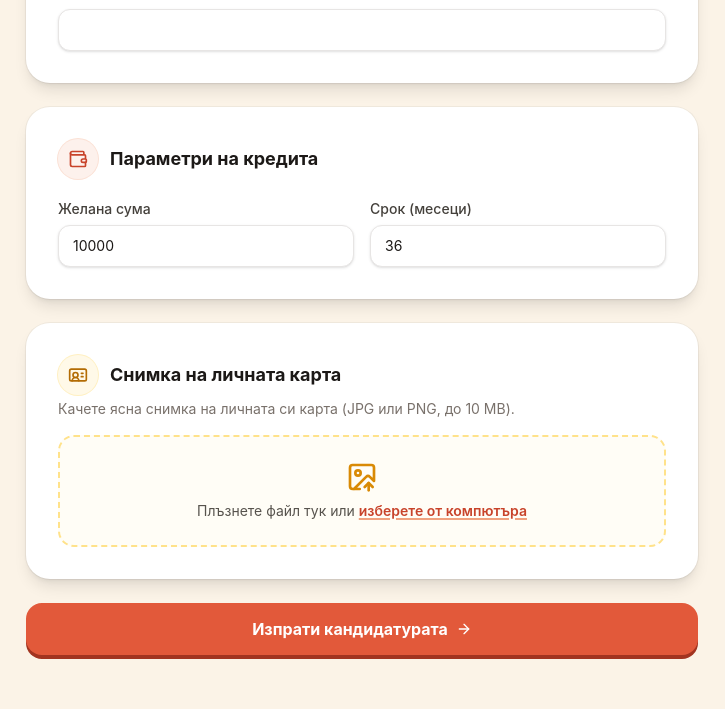
Test: ApplyPage › clears a validation error for the image once a valid file is dropped
(page scrolled)
Click the button "Изпрати кандидатурата" at (362,629), box [26,603,698,655]
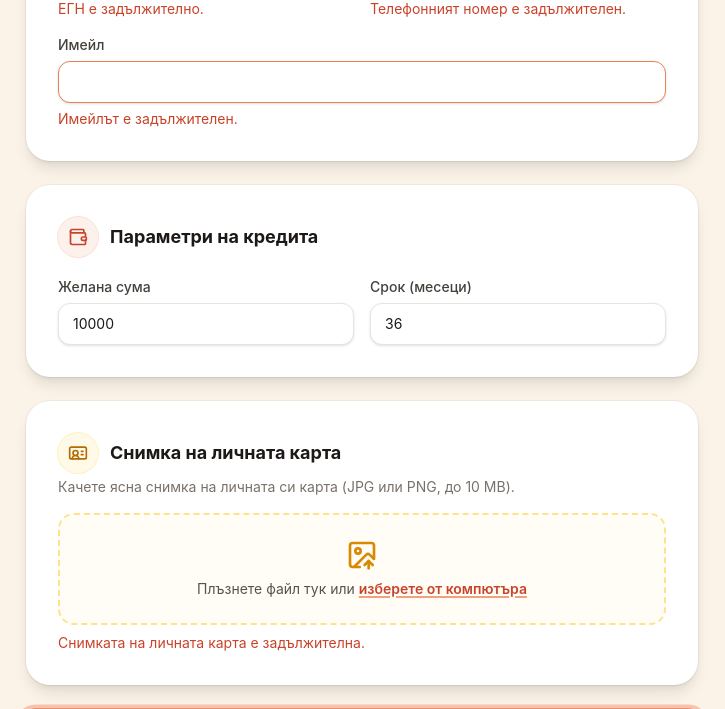
Expected: the text "Снимката на личната карта е задължителна." is shown, [58,634,365,651]
